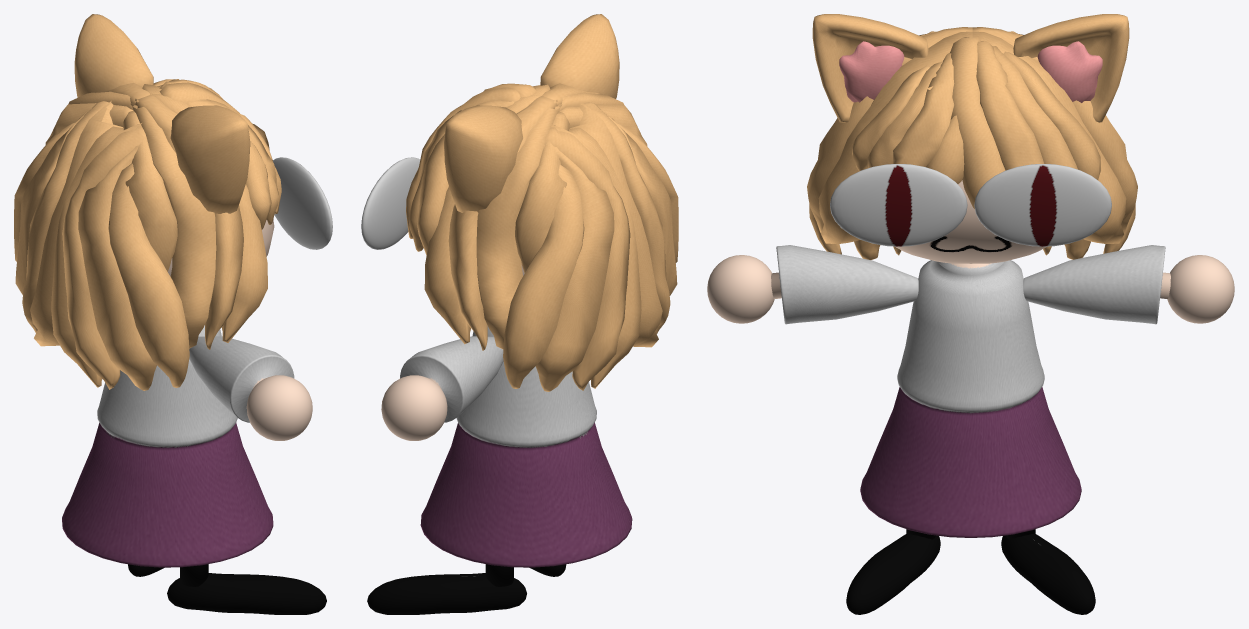
File: Neco.glb
The picture shows the model from 3 angles, left to right: view 1: azimuth 30°, elevation 25°; view 2: azimuth 150°, elevation 25°; view 3: azimuth 270°, elevation 25°; orthographic projection. The views are drawn at different scales.
Visible parts, largest first — view 1: Object_2; view 2: Object_2; view 3: Object_2, Object_3.
Boxes of the visible parts, <box> form: Object_2: <box>14,14,332,614</box>; Object_2: <box>361,14,678,614</box>; Object_2: <box>707,14,1234,614</box>; Object_3: <box>839,41,1102,102</box>.
Bounding box in the file's own units: 1.27 × 2.83 × 2.45.
1 material, 1 textured.
